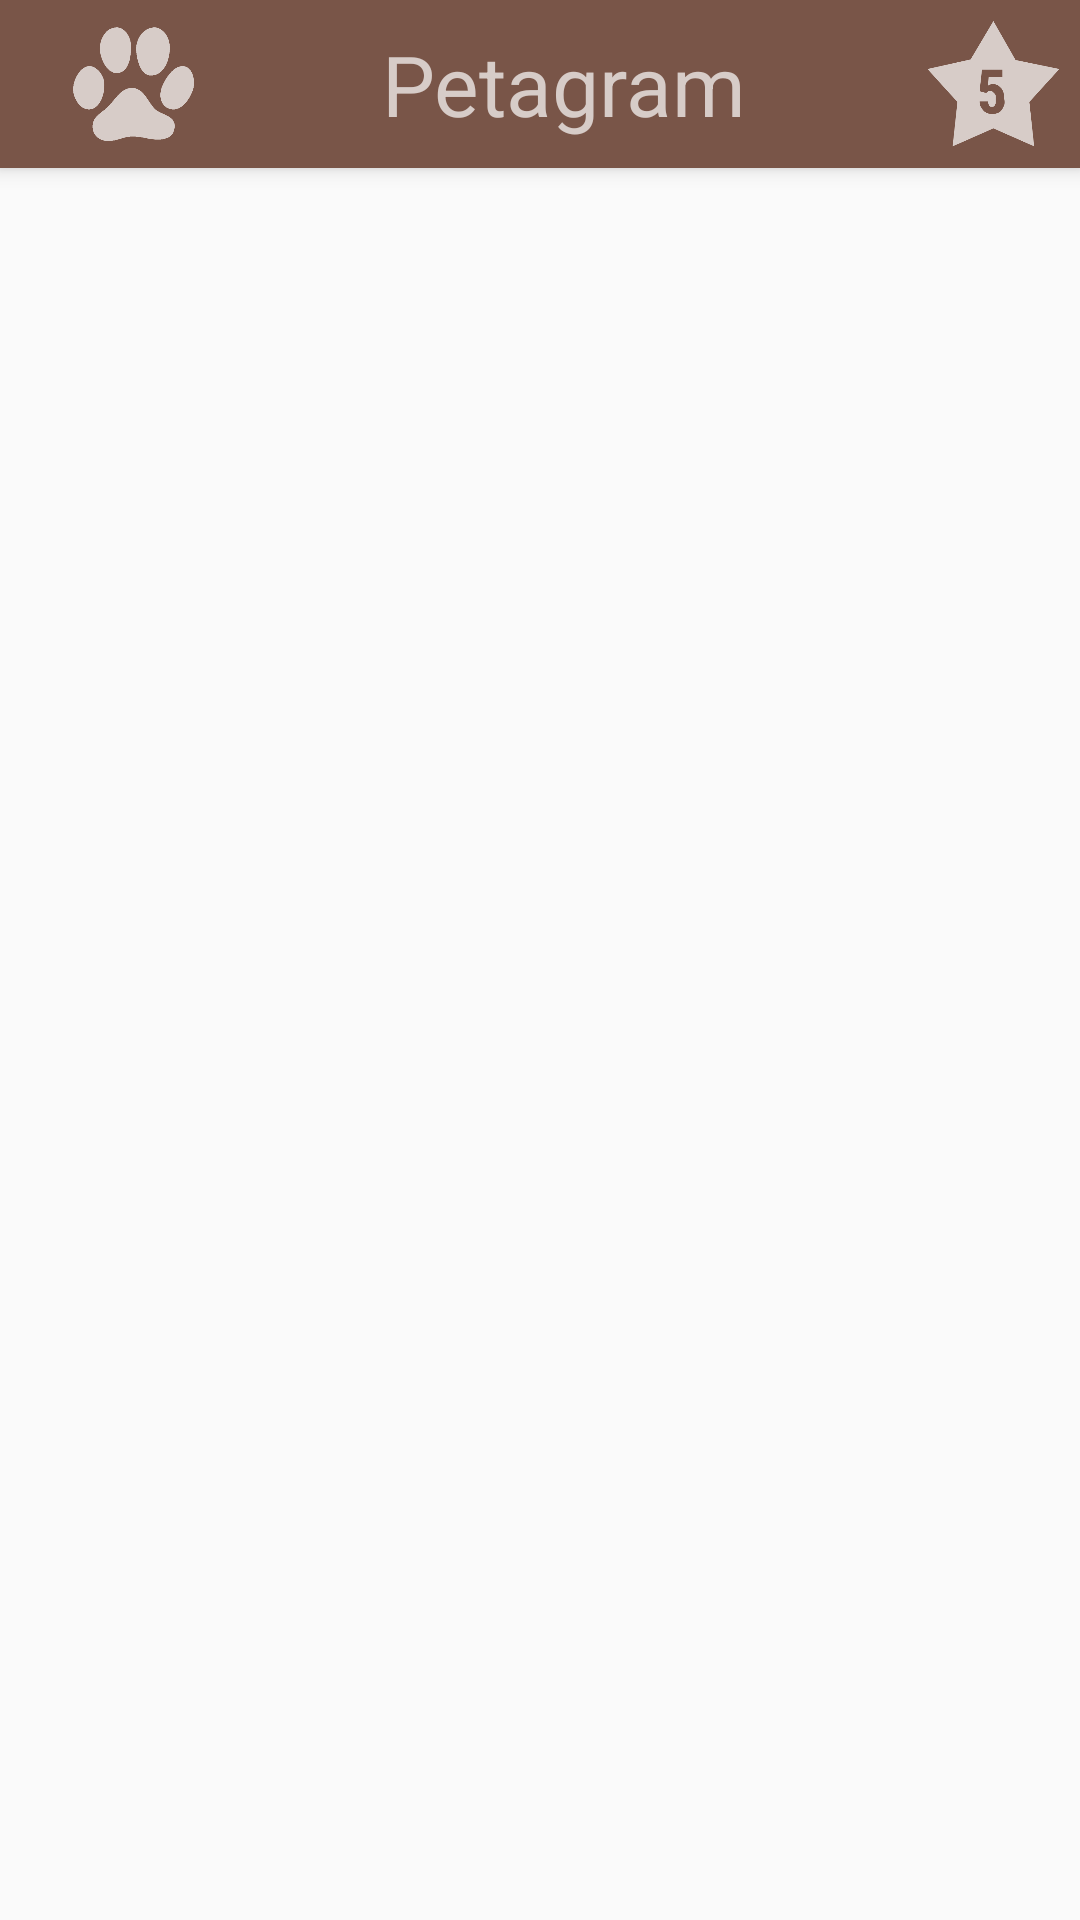

Named icons in this screenshot (1080px x 1920px) and their bounding boxes, (x1,y1,x2,y2):
Favoritos: (928,21,1059,146)
